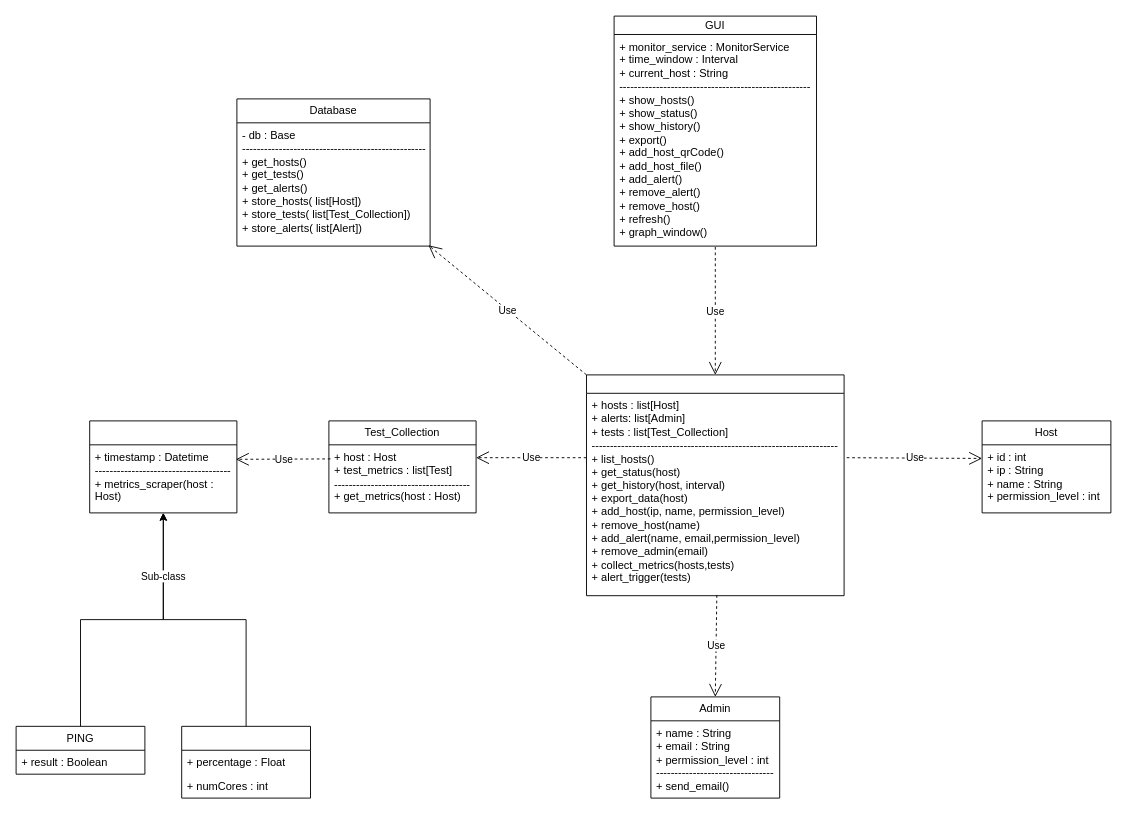
The diagram is 1127 pixels wide and 817 high, and some of its shapes have lost their labels. Here are the shapes that lost their labels. From the top down, the box of each, then its label:
(89, 420, 237, 513): Test
(586, 374, 844, 596): MonitorService
(181, 725, 310, 798): CustomCPU
